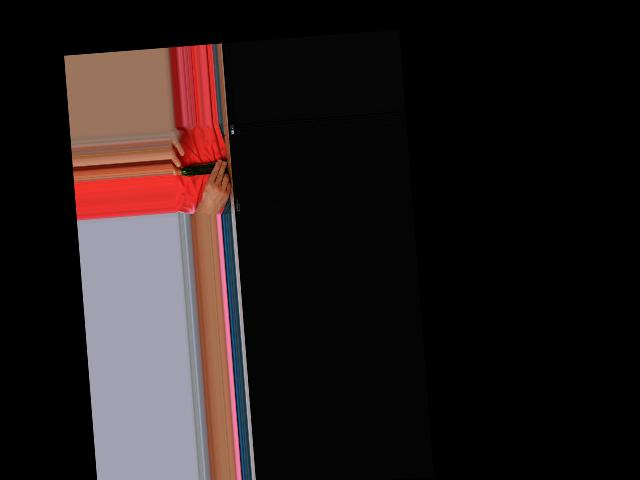cucumber: (180, 163, 217, 177)
